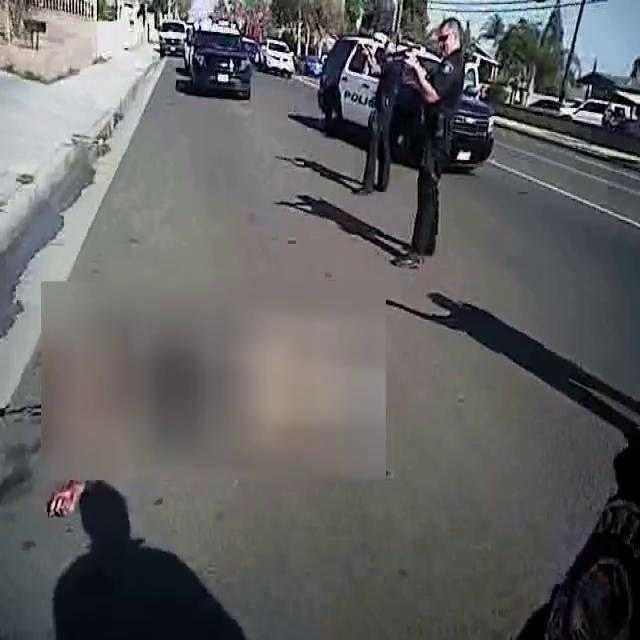gun: (382, 41, 418, 75), (352, 38, 373, 58)
